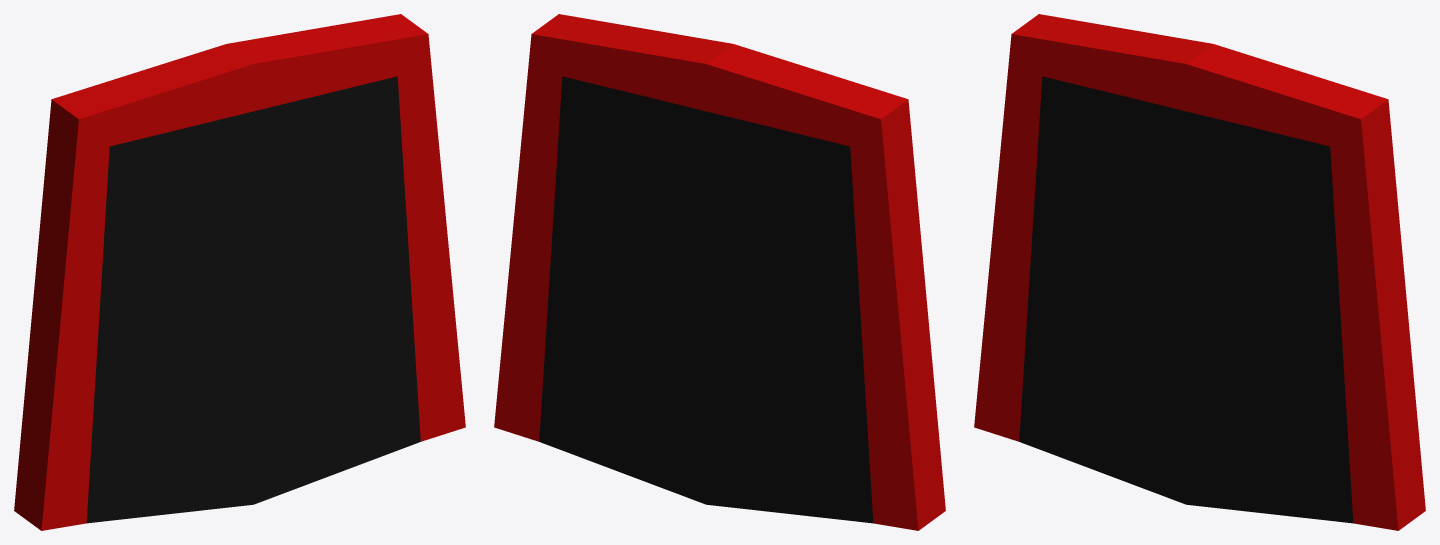
Rendered from obstacleBreak.fbx.
The picture shows the model from 3 angles, left to right: view 1: azimuth 30°, elevation 25°; view 2: azimuth 150°, elevation 25°; view 3: azimuth 330°, elevation 25°; orthographic projection.
Visible parts, largest first — view 1: obstacle_020, obstacle_023, obstacle_019, obstacle_026, obstacle_030, obstacle_021, obstacle_025, obstacle_033, obstacle_029, obstacle_027, obstacle_024, obstacle_028 (+3 smaller); view 2: obstacle_020, obstacle_021, obstacle_023, obstacle_022, obstacle_032, obstacle_033; view 3: obstacle_020, obstacle_023, obstacle_019, obstacle_026, obstacle_030, obstacle_025, obstacle_033, obstacle_027, obstacle_031, obstacle_029, obstacle_021, obstacle_024 (+3 smaller).
Boxes of the visible parts, box(x1,y1,x2,y2) form: obstacle_020: box(41, 14, 429, 270); obstacle_023: box(14, 401, 465, 530); obstacle_019: box(76, 119, 287, 383); obstacle_026: box(183, 249, 414, 408); obstacle_030: box(247, 113, 438, 262); obstacle_021: box(27, 216, 158, 456); obstacle_025: box(271, 339, 463, 445); obstacle_033: box(81, 357, 302, 454); obstacle_029: box(267, 64, 376, 219); obstacle_027: box(326, 262, 458, 359); obstacle_024: box(182, 363, 354, 451); obstacle_028: box(304, 47, 431, 146); obstacle_020: box(519, 14, 921, 268); obstacle_021: box(497, 193, 934, 431); obstacle_023: box(494, 393, 945, 530); obstacle_022: box(668, 382, 938, 444); obstacle_032: box(674, 302, 715, 363); obstacle_033: box(548, 336, 584, 375); obstacle_020: box(998, 14, 1400, 228); obstacle_023: box(974, 349, 1425, 530); obstacle_019: box(1009, 131, 1220, 302); obstacle_026: box(1116, 257, 1346, 377); obstacle_030: box(1180, 184, 1371, 341); obstacle_025: box(1203, 371, 1419, 502); obstacle_033: box(1014, 295, 1234, 461); obstacle_027: box(1259, 330, 1415, 455); obstacle_031: box(1329, 147, 1406, 361); obstacle_029: box(1199, 89, 1308, 229); obstacle_021: box(985, 171, 1422, 478); obstacle_024: box(1114, 368, 1286, 495).
Size of the model in its own units: 0.7128 by 0.7073 by 0.0797.
